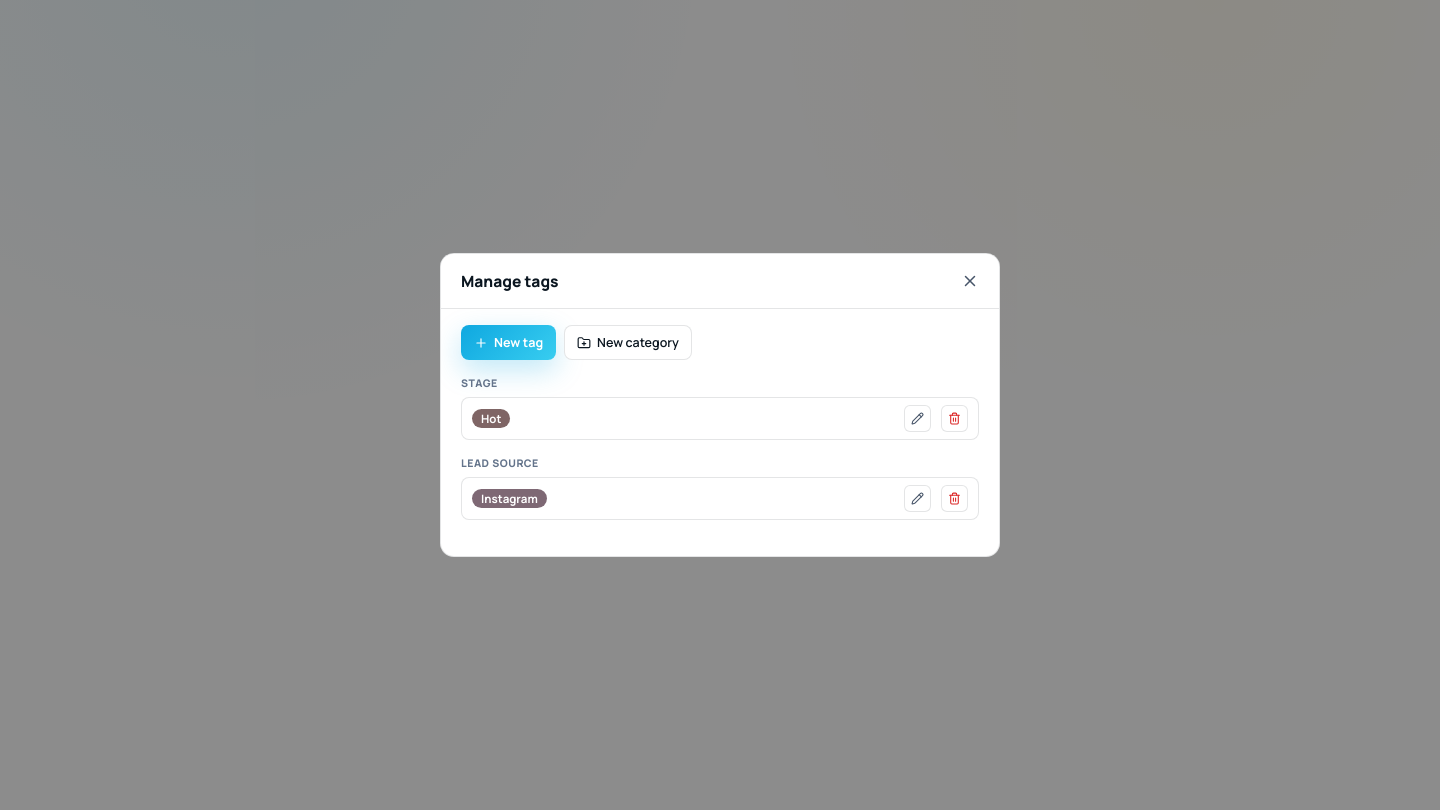
it: ManageTagsModal › re-enables the form after a FAILED save, and says why
Step 1. Click the button "New tag" → click(509, 342), box [461,325,556,360]
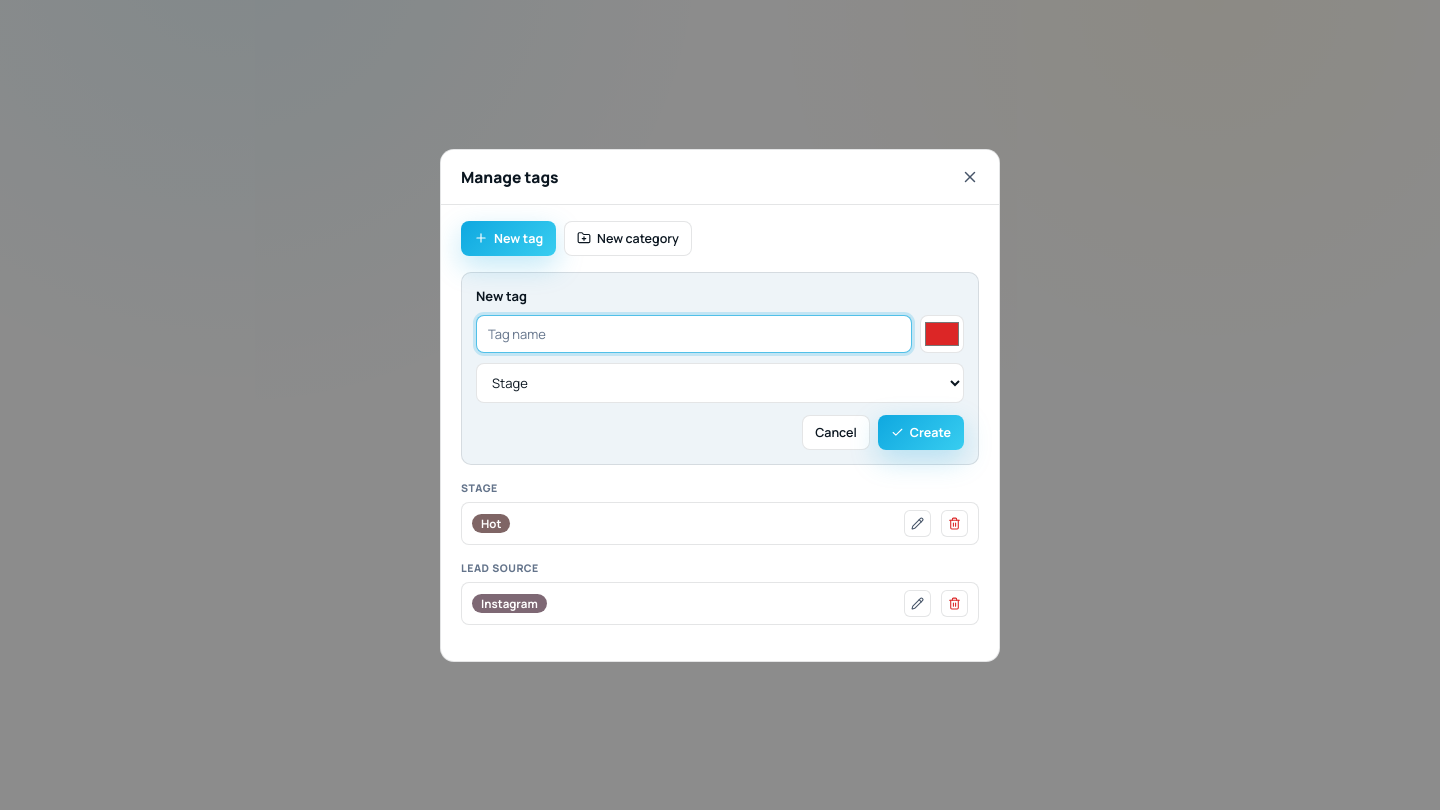
Step 2. Type "Hot" into the field with placeholder "Tag name" → (694, 334), box [476,314,912,352]
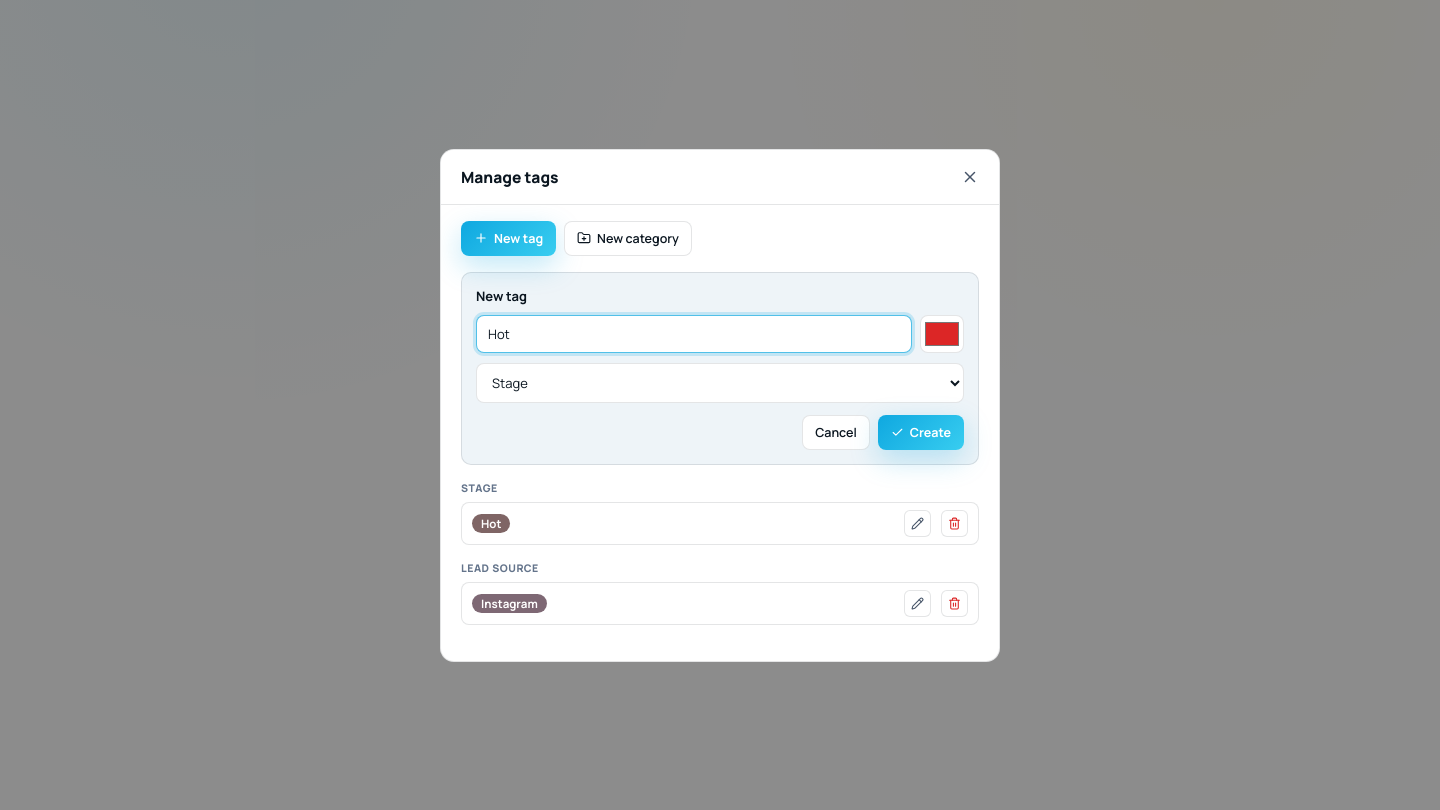
Step 3. Select "Stage" in the dropdown named "Category" → (720, 382), box [476,362,964,402]
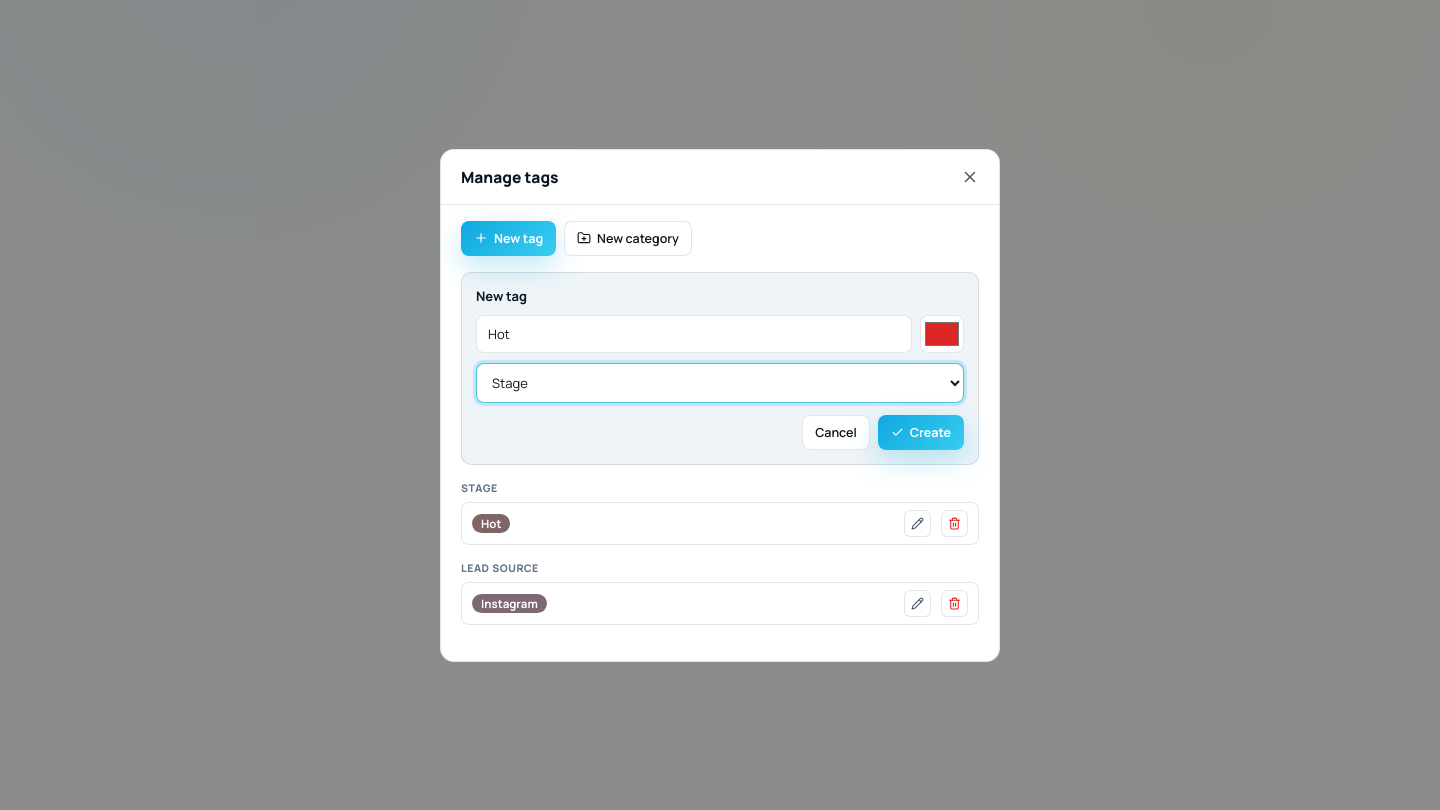
Step 4. Click the button "Create" → click(921, 432), box [878,414,964,450]
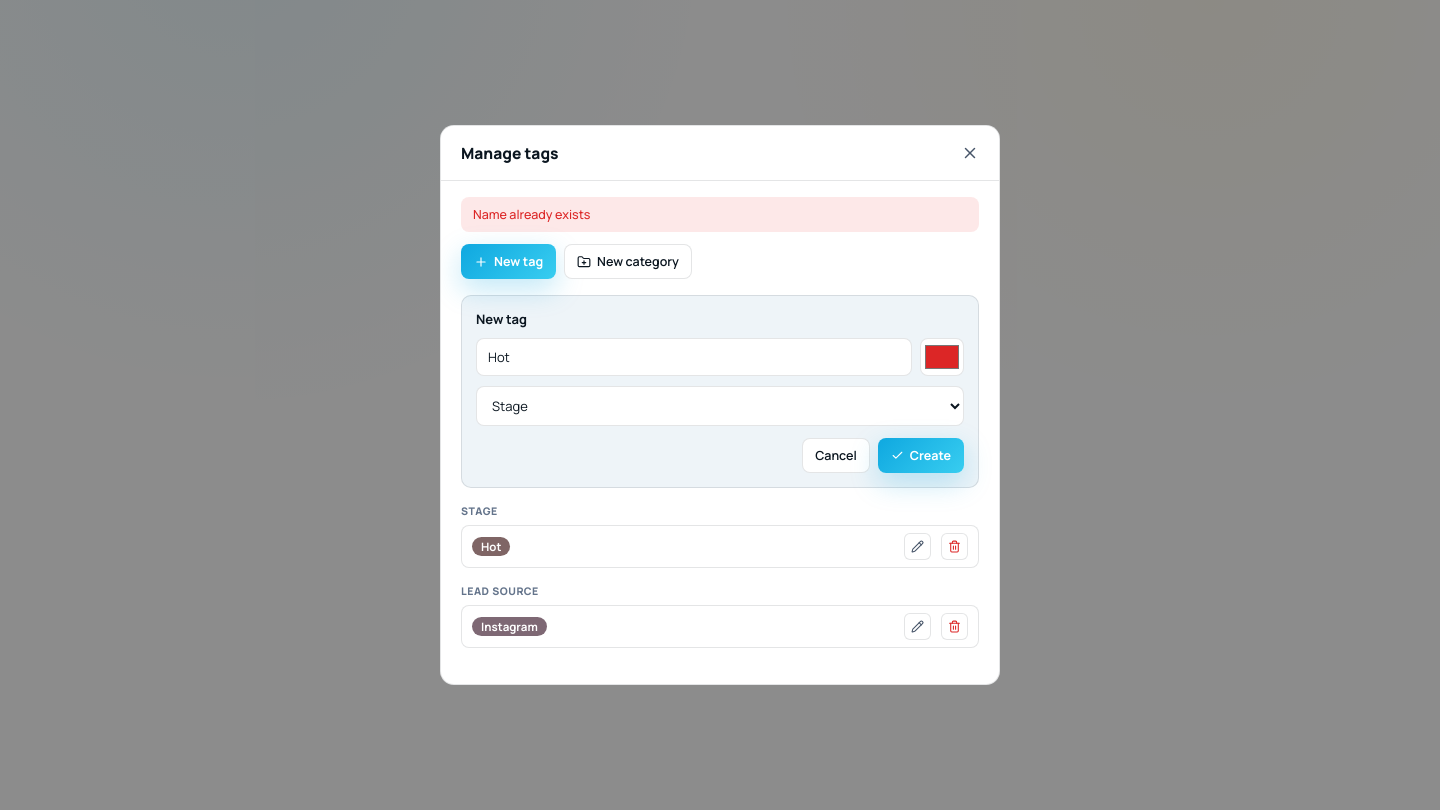
Expected: the button "Create" is enabled, [878,438,964,473]
Expected: the message reads "Name already exists", [473,206,590,223]
